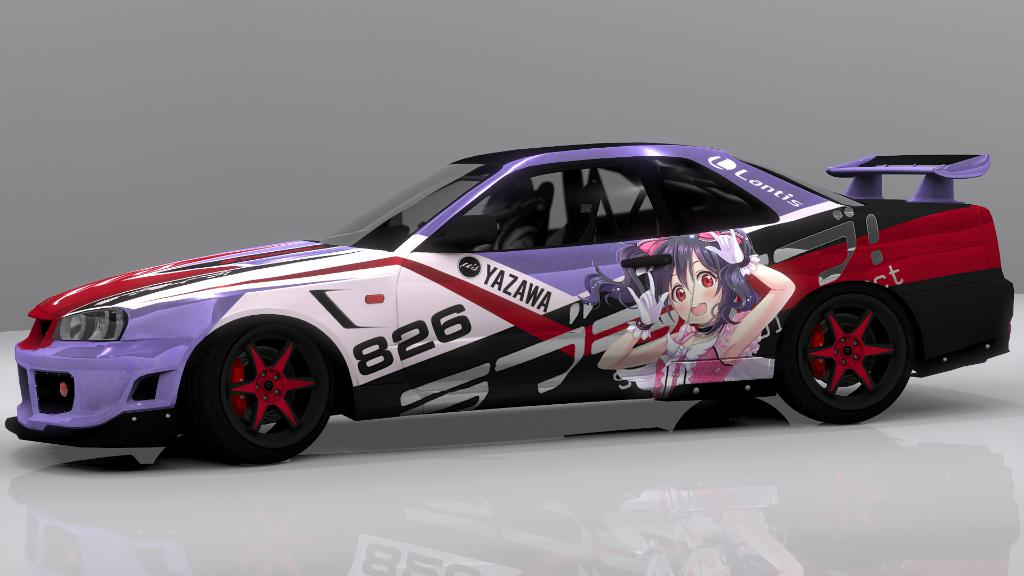Car: (1, 139, 1017, 465)
